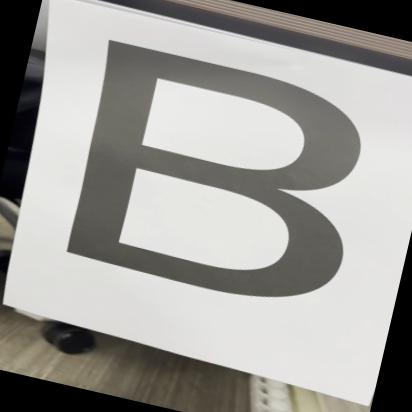seat: (31, 22, 411, 346)
